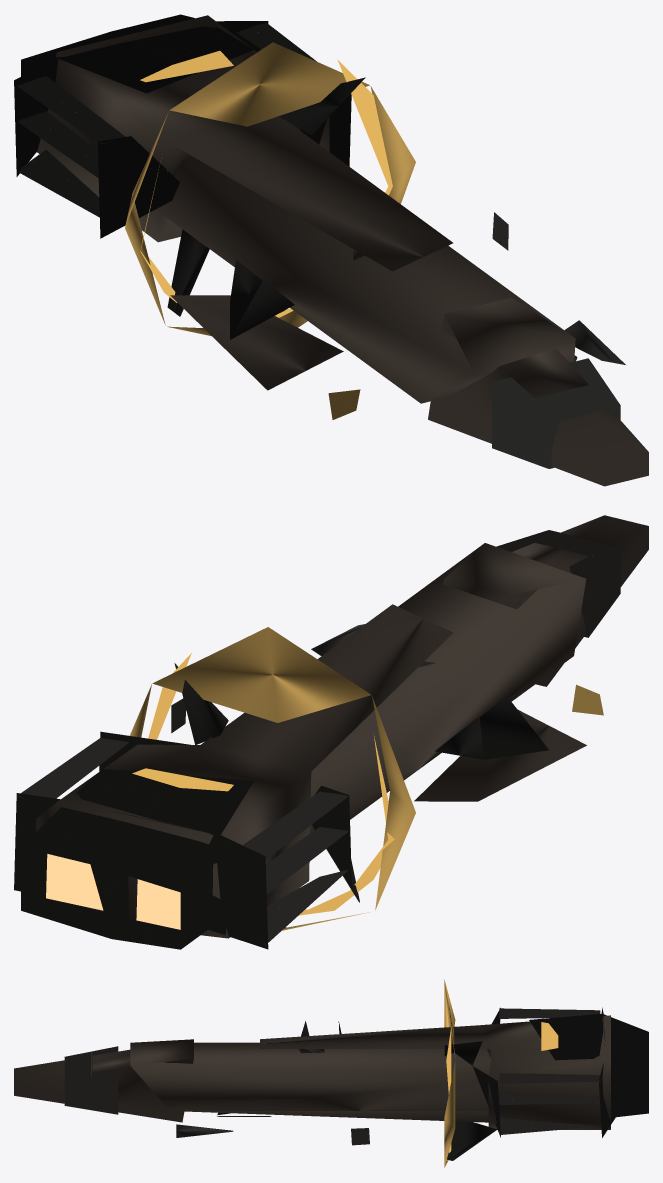
File: goniec-wybudzeni-coalition-13-lod2.glb
3 views of the same model, one above another, from view 1: azimuth 30°, elevation 25°; view 2: azimuth 150°, elevation 25°; view 3: azimuth 270°, elevation 25° (orthographic). The views are drawn at different scales.
Bounding box in the file's own units: 5.29 × 4.79 × 15.
